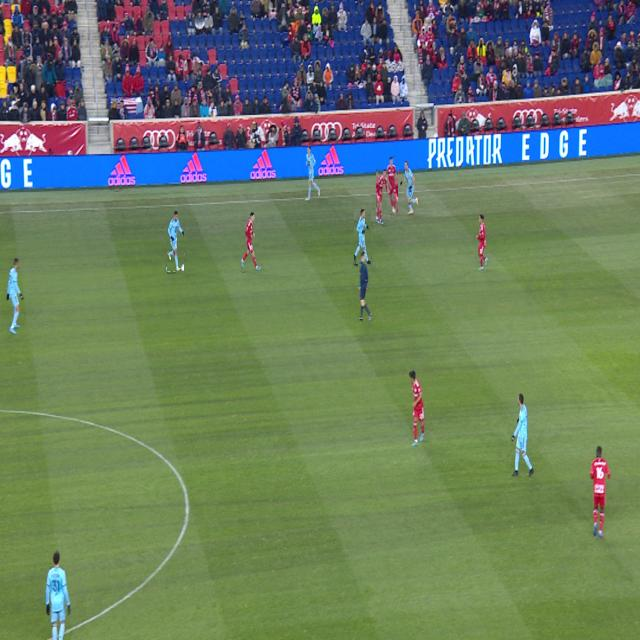football: (166, 265, 171, 273)
player: (46, 550, 70, 640), (590, 446, 611, 537), (512, 394, 534, 476), (7, 258, 23, 334), (241, 213, 261, 271), (410, 370, 425, 447), (400, 161, 418, 214), (168, 212, 184, 271), (354, 210, 371, 264), (305, 146, 320, 201), (376, 170, 390, 225), (476, 214, 488, 270), (387, 157, 398, 213)
referee: (359, 253, 373, 322)
